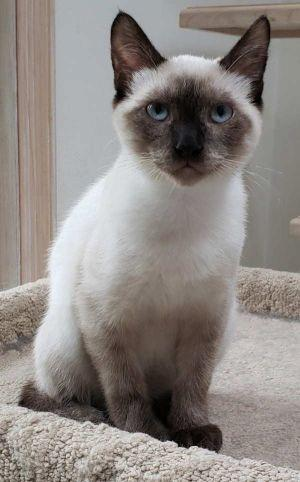siamese: (102, 5, 280, 202)
